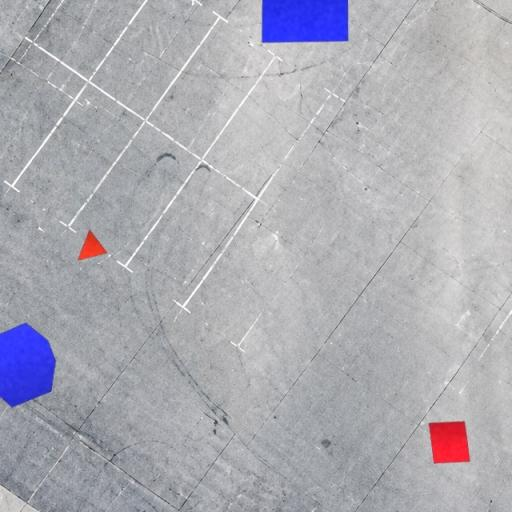BLUE_SQUARE: (261, 0, 349, 43)
RED_SQUARE: (428, 421, 471, 464)
